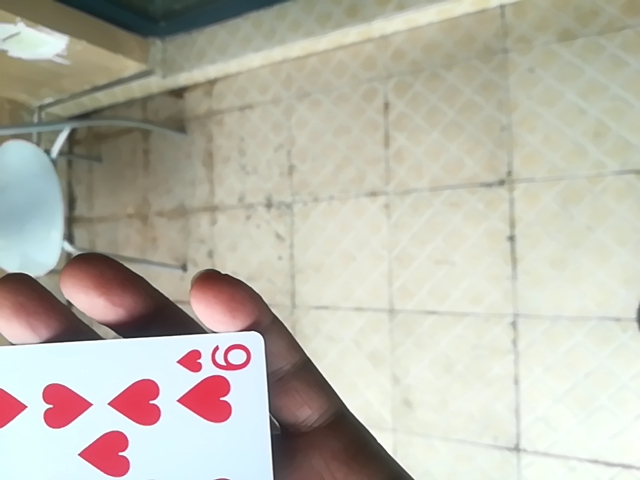hx 9: (1, 326, 278, 479)
